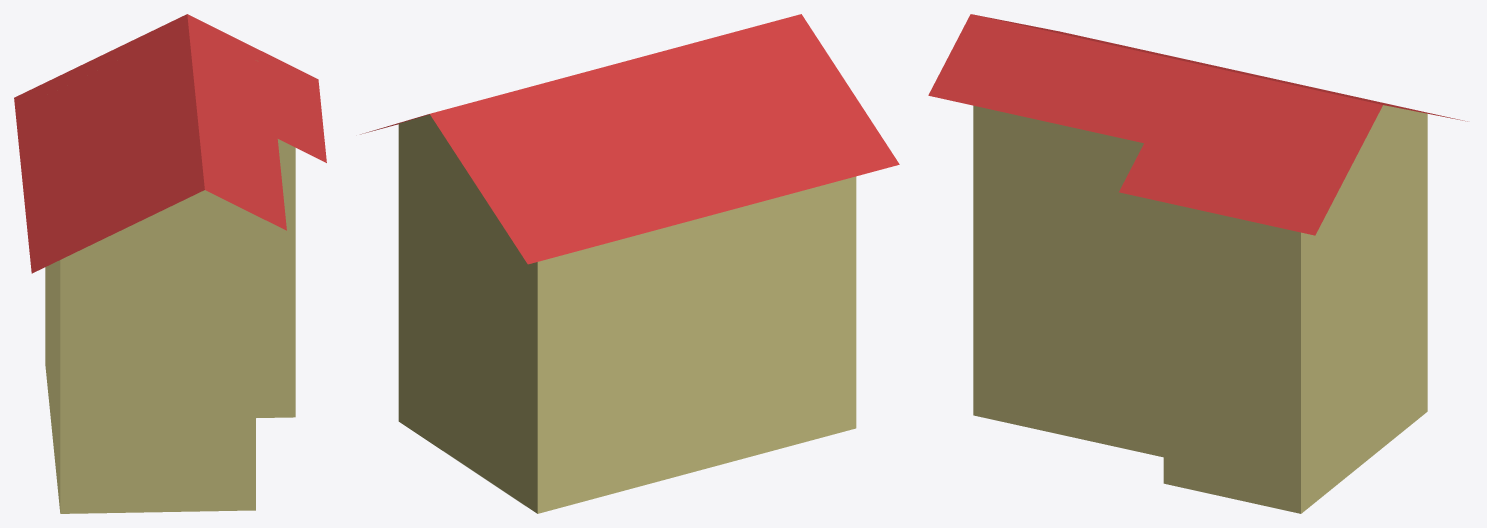
The picture shows the model from 3 angles, left to right: view 1: azimuth 30°, elevation 25°; view 2: azimuth 150°, elevation 25°; view 3: azimuth 270°, elevation 25°; orthographic projection. The views are drawn at different scales.
Parts seen in each view (by area): view 1: group_5, group_3, group_4; view 2: group_5, group_3, group_4; view 3: group_5, group_3, group_4.
Part boxes in pixels (bbox=[...]): group_5: bbox=[45, 139, 295, 513]; group_3: bbox=[14, 14, 295, 273]; group_4: bbox=[14, 14, 326, 192]; group_5: bbox=[398, 114, 856, 513]; group_3: bbox=[360, 14, 899, 263]; group_4: bbox=[430, 114, 742, 264]; group_5: bbox=[973, 105, 1427, 513]; group_3: bbox=[928, 14, 1422, 235]; group_4: bbox=[971, 14, 1467, 235].
Size of the model in its own units: 15.48 by 16.31 by 12.32.
